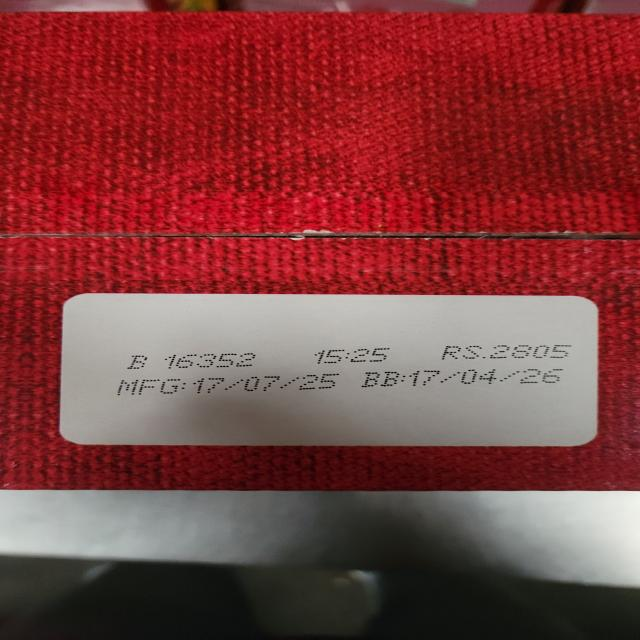Batch: (128, 353, 262, 369)
MFG: (118, 372, 342, 396), (361, 368, 566, 388)
RS: (440, 344, 575, 360)
TimeStamp: (310, 348, 394, 363)
